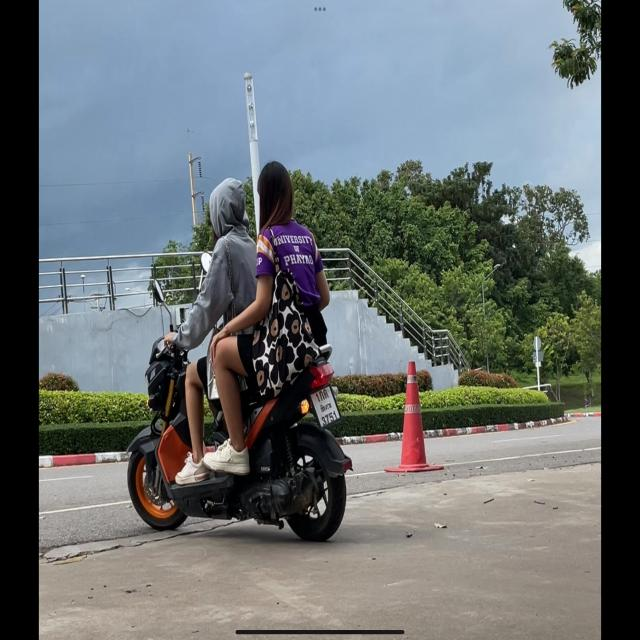seatbelt: (256, 160, 296, 227), (208, 176, 247, 235)
